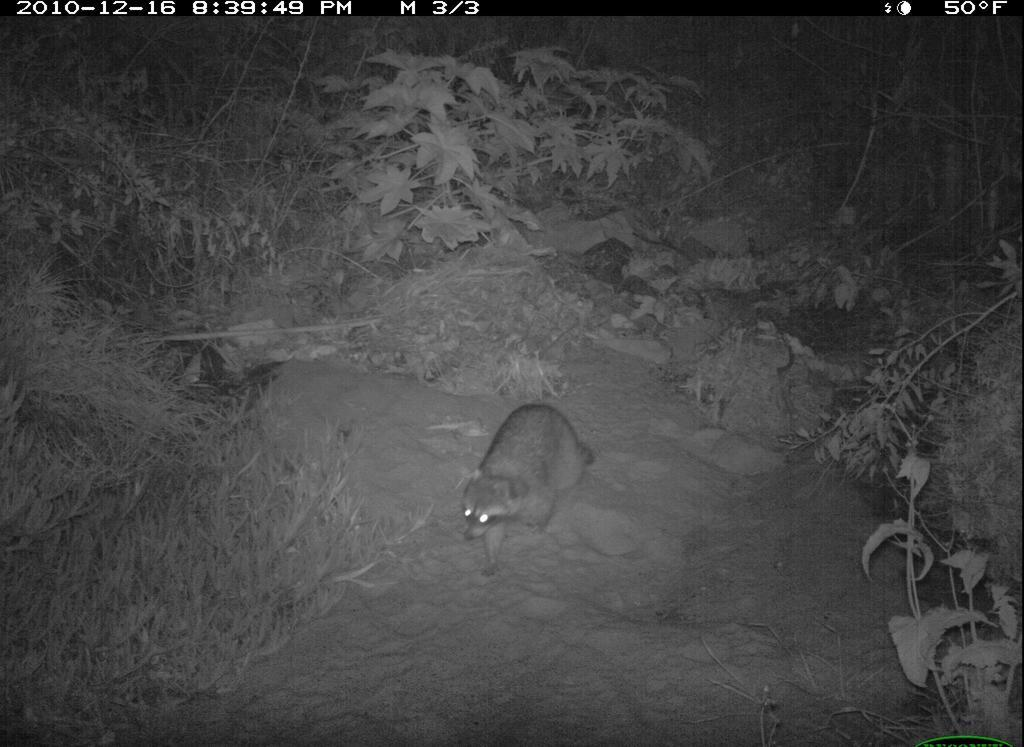raccoon: (452, 395, 602, 594)
